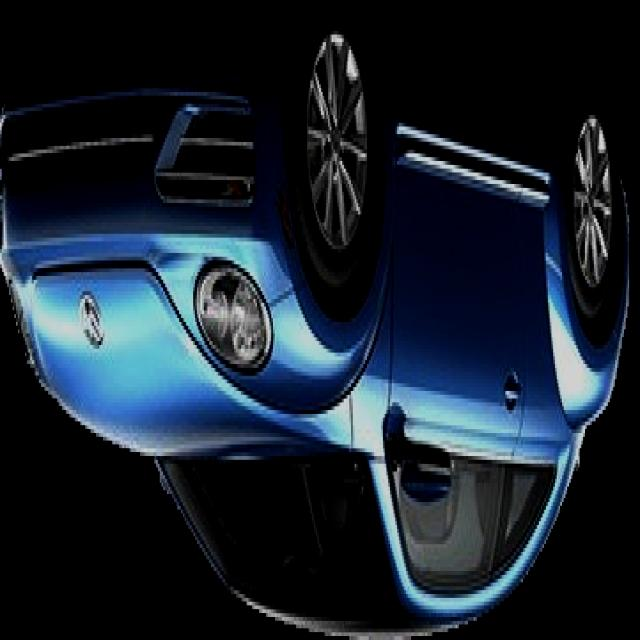blue: (5, 72, 640, 629)
